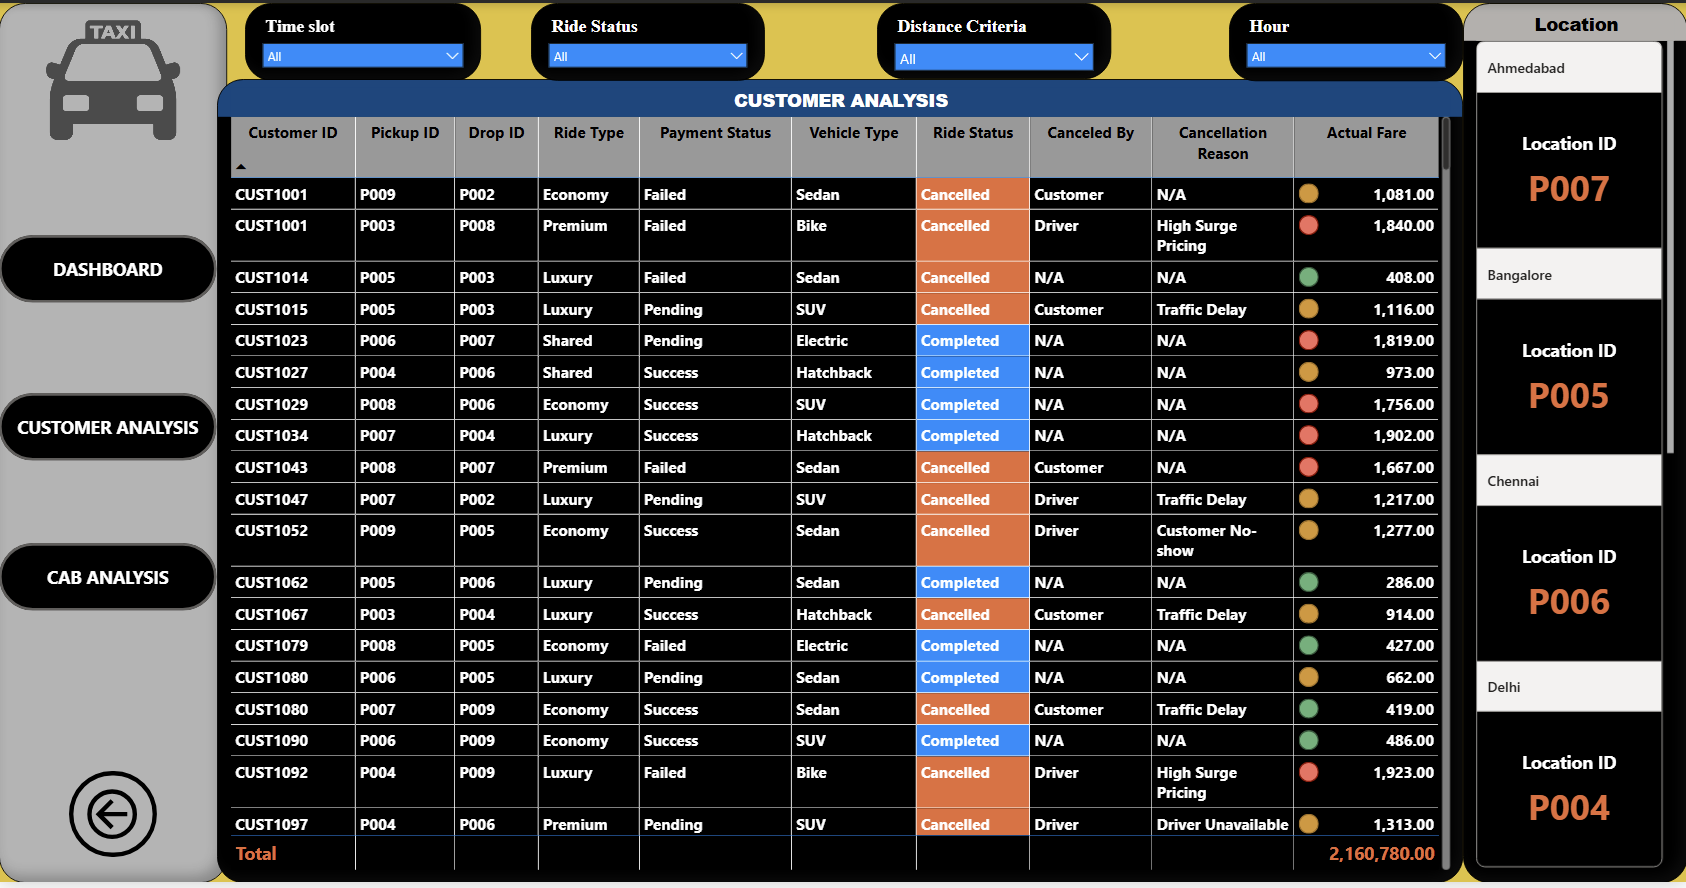

This screenshot's page, from the dashboard's own definition file:
{"tool":"powerbi","page":{"name":"CUSTOMER ANALYSIS","canvas":[1920,1000],"ordinal":2},"visuals":[{"type":"textbox","box":[0,0,259.3,1000.9],"z":0},{"type":"cardVisual","title":"Location","fields":{"Rows":["LOCATION DIMENSION.Location"],"Data":["Min(LOCATION DIMENSION.Location ID)"]},"box":[1664.3,0,255.7,1001],"z":1000},{"type":"image","box":[0,11.4,259.3,152.4],"z":2000},{"type":"actionButton","box":[0,264.3,247.5,76.9],"z":3000},{"type":"actionButton","box":[0,444.6,247.5,76.9],"z":4000},{"type":"actionButton","box":[0,615.2,247.5,76.9],"z":5000},{"type":"slicer","fields":{"Values":["FACT TABLE.Time slot"]},"box":[279.8,0,268.4,88.7],"z":6000},{"type":"tableEx","title":"CUSTOMER ANALYSIS","fields":{"Values":["FACT TABLE.Customer ID","FACT TABLE.Pickup ID","FACT TABLE.Drop ID","RIDE DIMENSION.Ride Type","PAYMENT_STATUS DIMENSION.Payment Status","VEHICLE DIMENSION.Vehicle Type","RIDE STATUS DIMENSION.Ride Status","CANCELLATION BY DIMENSION.Canceled By","CANCELLATION DIMENSION.Cancellation Reason","Sum(FACT TABLE.Actual Fare)"]},"box":[248,86.4,1417.3,914.5],"z":7000},{"type":"slicer","fields":{"Values":["RIDE STATUS DIMENSION.Ride Status"]},"box":[605.1,0,266.2,88.7],"z":8000},{"type":"slicer","fields":{"Values":["FACT TABLE.Hour"]},"box":[1398.5,0,266.7,88.9],"z":9000},{"type":"actionButton","box":[79.6,873.6,100.1,97.8],"z":10000},{"type":"slicer","fields":{"Values":["FACT TABLE.Distance Criteria"]},"box":[999.6,0,266.7,86.5],"z":11000}]}

Visuals, with their boxes in screenshot pixels (x1, y1, x2, y2), scaled from the page's 1920x1000 canvas onto the 1686x888 screenshot:
textbox: select_region(0, 0, 228, 887)
"Location" cardVisual: select_region(1461, 0, 1685, 887)
image: select_region(0, 10, 228, 145)
actionButton: select_region(0, 235, 217, 303)
actionButton: select_region(0, 395, 217, 463)
actionButton: select_region(0, 546, 217, 615)
slicer - FACT TABLE.Time slot: select_region(246, 0, 481, 79)
"CUSTOMER ANALYSIS" tableEx: select_region(218, 77, 1462, 887)
slicer - RIDE STATUS DIMENSION.Ride Status: select_region(531, 0, 765, 79)
slicer - FACT TABLE.Hour: select_region(1228, 0, 1462, 79)
actionButton: select_region(70, 776, 158, 863)
slicer - FACT TABLE.Distance Criteria: select_region(878, 0, 1112, 77)
